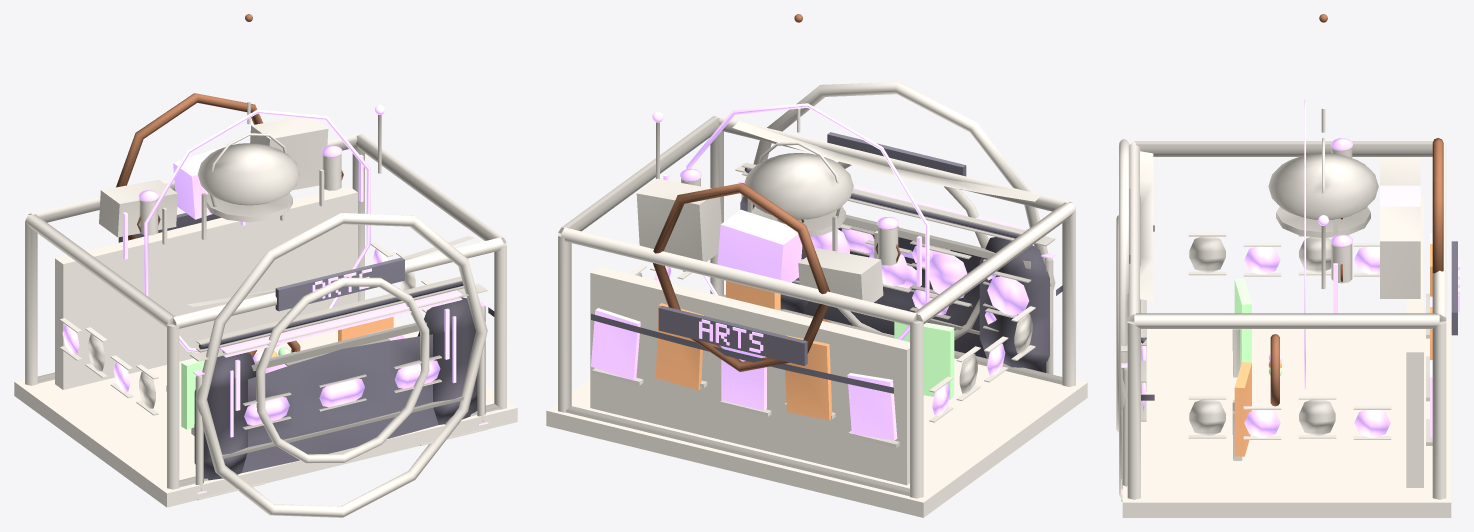
Rendered from arts-studio.glb.
3 renders of one model, left to right at view 1: azimuth 30°, elevation 25°; view 2: azimuth 150°, elevation 25°; view 3: azimuth 270°, elevation 25°, orthographic. The views are drawn at different scales.
Visible parts, largest first — view 1: arts-studio:near:surface:0, arts-studio:far:surface:0, arts-studio:near:surface:1, arts-studio:near:surface:2, arts-studio:city-identity:studio-star, arts-studio:near:surface:5, arts-studio:near:surface:4; view 2: arts-studio:near:surface:0, arts-studio:far:surface:0, arts-studio:near:surface:2, arts-studio:near:surface:1, arts-studio:near:surface:4, arts-studio:city-identity:studio-star, arts-studio:near:surface:5; view 3: arts-studio:far:surface:0, arts-studio:near:surface:0, arts-studio:near:surface:2, arts-studio:near:surface:4, arts-studio:city-identity:studio-star, arts-studio:near:surface:5, arts-studio:near:surface:1, arts-studio:near:surface:3.
Part boxes in pixels (x1=…): arts-studio:near:surface:0: x1=25, y1=101, x2=506, y2=517; arts-studio:far:surface:0: x1=14, y1=186, x2=517, y2=507; arts-studio:near:surface:1: x1=118, y1=213, x2=494, y2=480; arts-studio:near:surface:2: x1=62, y1=105, x2=488, y2=494; arts-studio:city-identity:studio-star: x1=116, y1=93, x2=262, y2=240; arts-studio:near:surface:5: x1=181, y1=347, x2=290, y2=429; arts-studio:near:surface:4: x1=271, y1=316, x2=393, y2=357; arts-studio:near:surface:0: x1=558, y1=82, x2=1075, y2=498; arts-studio:far:surface:0: x1=546, y1=266, x2=1087, y2=517; arts-studio:near:surface:2: x1=591, y1=103, x2=1055, y2=440; arts-studio:near:surface:1: x1=591, y1=132, x2=1062, y2=393; arts-studio:near:surface:4: x1=655, y1=281, x2=832, y2=420; arts-studio:city-identity:studio-star: x1=653, y1=183, x2=829, y2=371; arts-studio:near:surface:5: x1=894, y1=322, x2=954, y2=399; arts-studio:far:surface:0: x1=1122, y1=197, x2=1451, y2=517; arts-studio:near:surface:0: x1=1116, y1=107, x2=1446, y2=501; arts-studio:near:surface:2: x1=1121, y1=99, x2=1459, y2=495; arts-studio:near:surface:4: x1=1234, y1=244, x2=1432, y2=456; arts-studio:city-identity:studio-star: x1=1432, y1=138, x2=1443, y2=273; arts-studio:near:surface:5: x1=1234, y1=278, x2=1281, y2=375; arts-studio:near:surface:1: x1=1129, y1=188, x2=1457, y2=400; arts-studio:near:surface:3: x1=1270, y1=14, x2=1342, y2=406.
Bounding box in the file's own units: 15 × 17.8 × 11.8.
